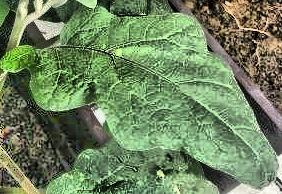HEALTHY: (0, 1, 282, 194)
